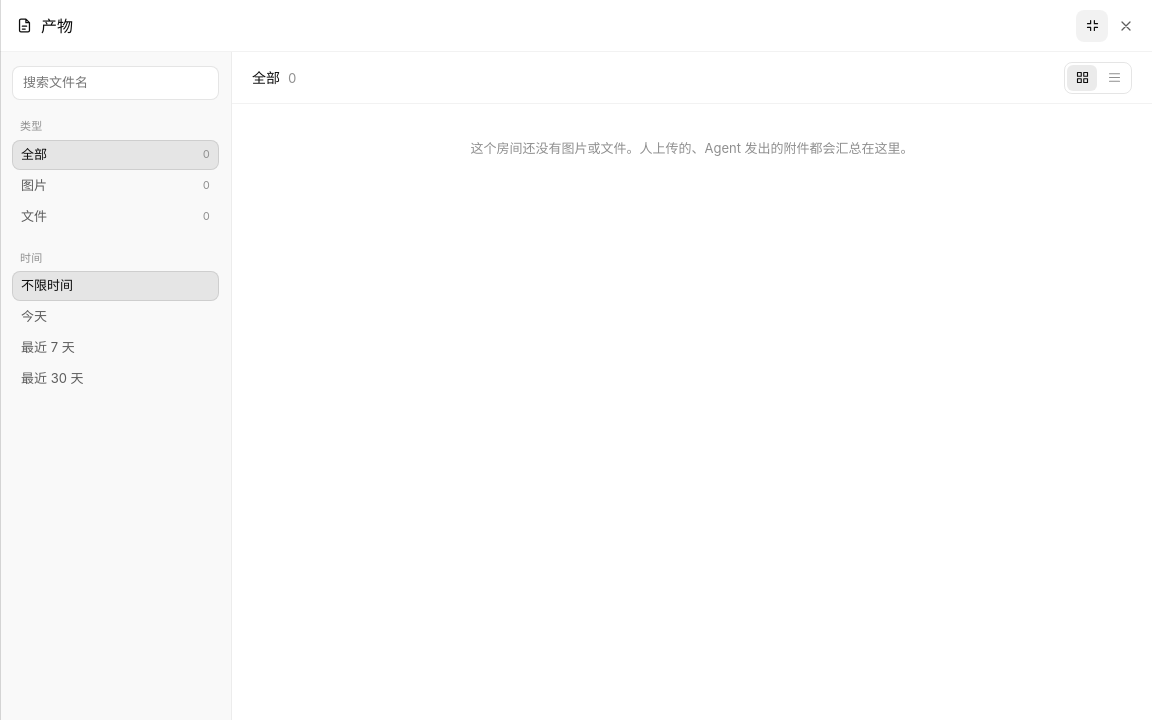
Test case: ArtifactsPanel › opens maximized and restores to a side drawer, remembered under its own key
Later steps or results of the test are not shown.
Click the button named "还原为侧边面板" at x=1092, y=26, box [1076,10,1108,42]
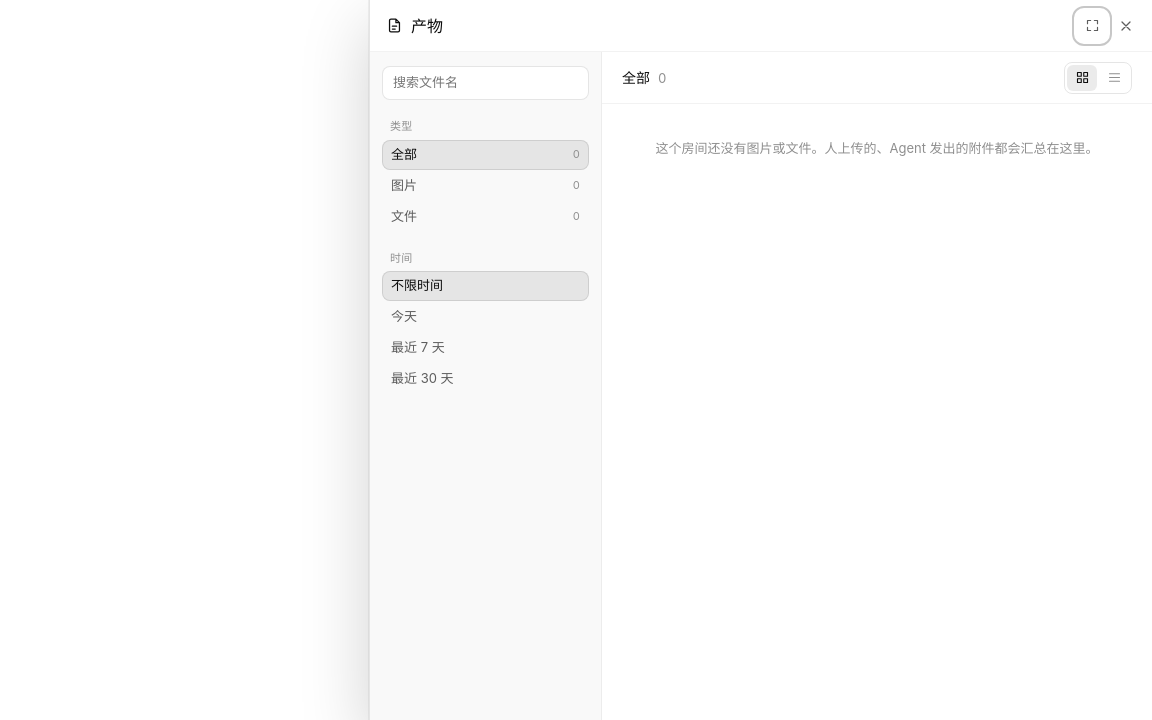
expect the dialog "产物" does not have class "maximized": met
